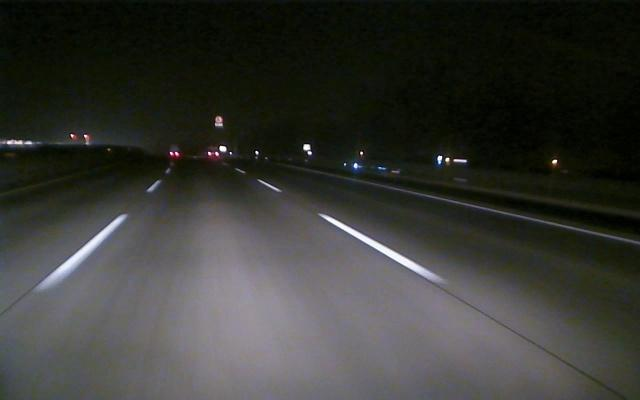lane: (347, 178, 637, 246), (259, 181, 449, 283), (31, 181, 161, 294)
